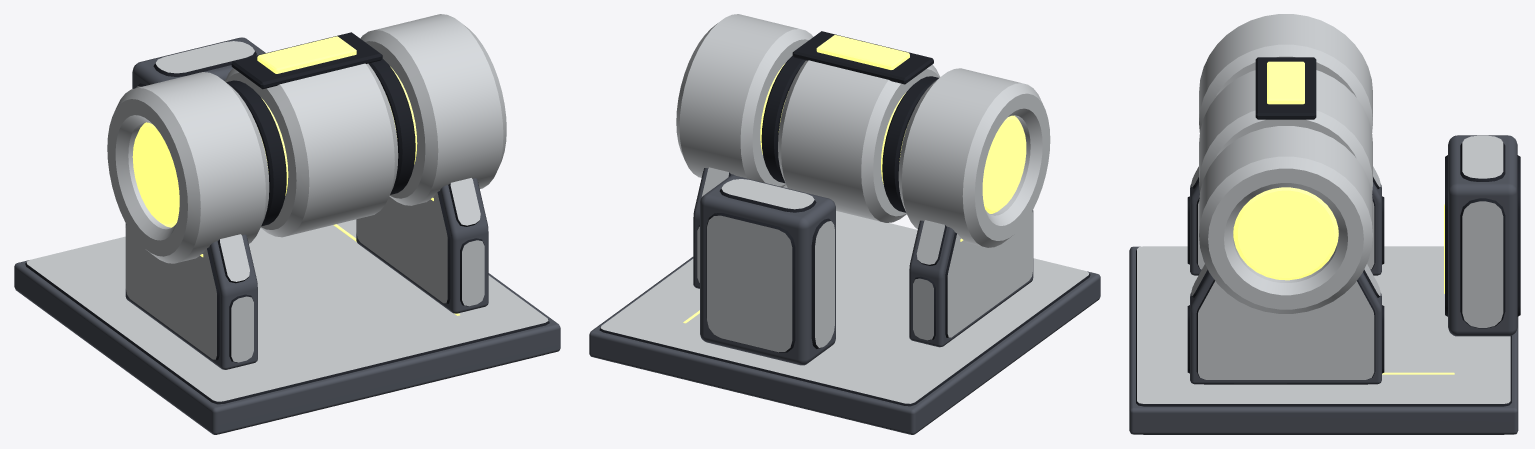
Rendered from R4X_Battery.fbx.
3 views of the same model, side by side, from view 1: azimuth 30°, elevation 25°; view 2: azimuth 150°, elevation 25°; view 3: azimuth 270°, elevation 25° (orthographic). The views are drawn at different scales.
Parts seen in each view (by area): view 1: R4X_Battery_Body; view 2: R4X_Battery_Body; view 3: R4X_Battery_Body.
Part boxes in pixels (x1,y1,x2,y2): R4X_Battery_Body: (14, 14, 560, 434); R4X_Battery_Body: (589, 14, 1100, 434); R4X_Battery_Body: (1129, 14, 1520, 434).
Size of the model in its own units: 0.514 by 0.402 by 0.517.
